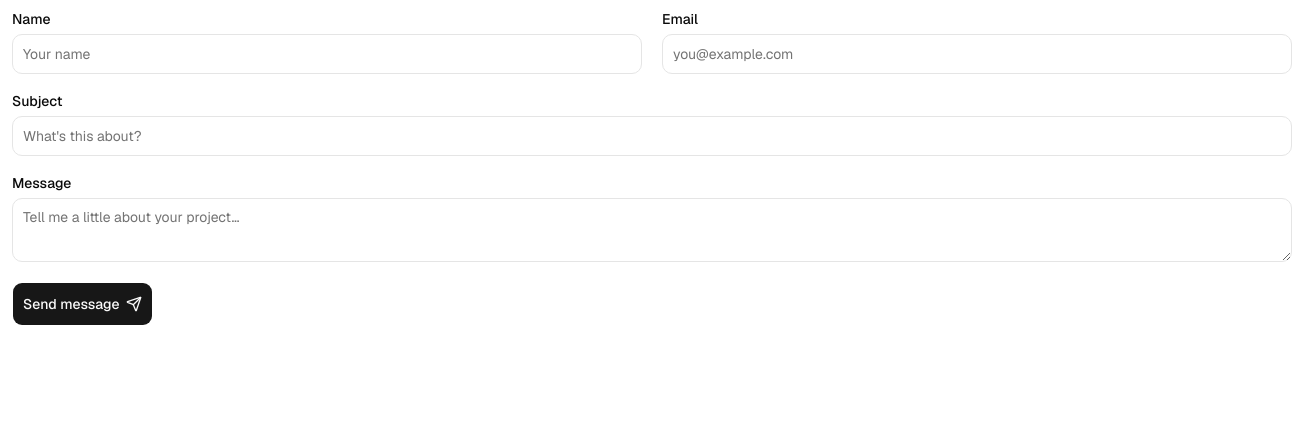
ContactForm › shows accessible validation errors on empty submit
Click the button "Send message". click: (82, 304)
box: [12,282,152,326]
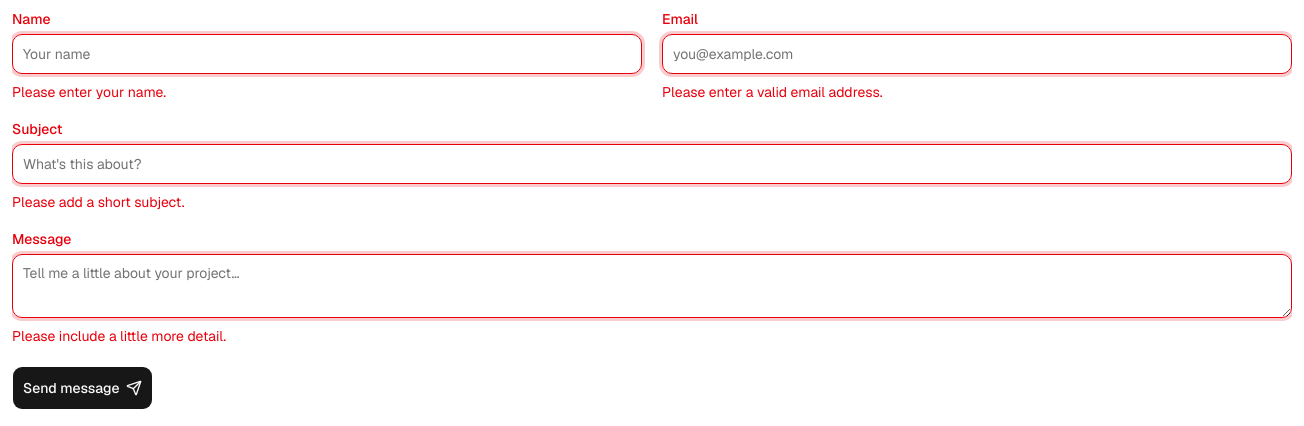
Expected: the text "Please enter your name." is shown, [12,83,166,101]
Expected: the text "Please enter a valid email address." is shown, [662,83,882,101]
